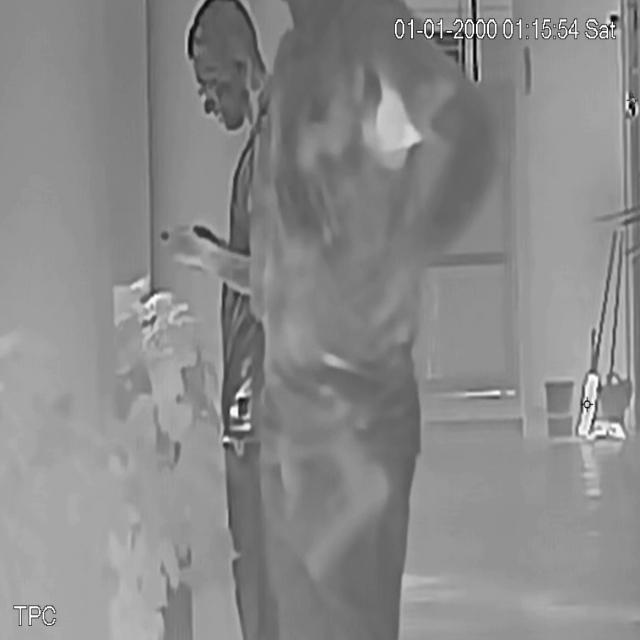Weapon: (290, 419, 392, 588)
